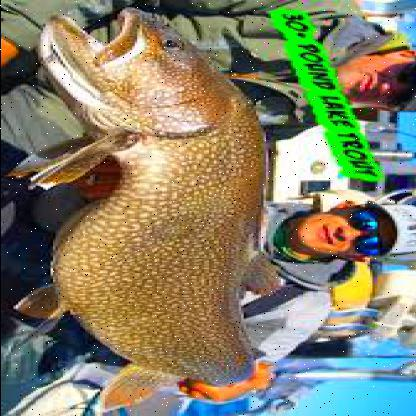fish: (40, 2, 284, 410)
